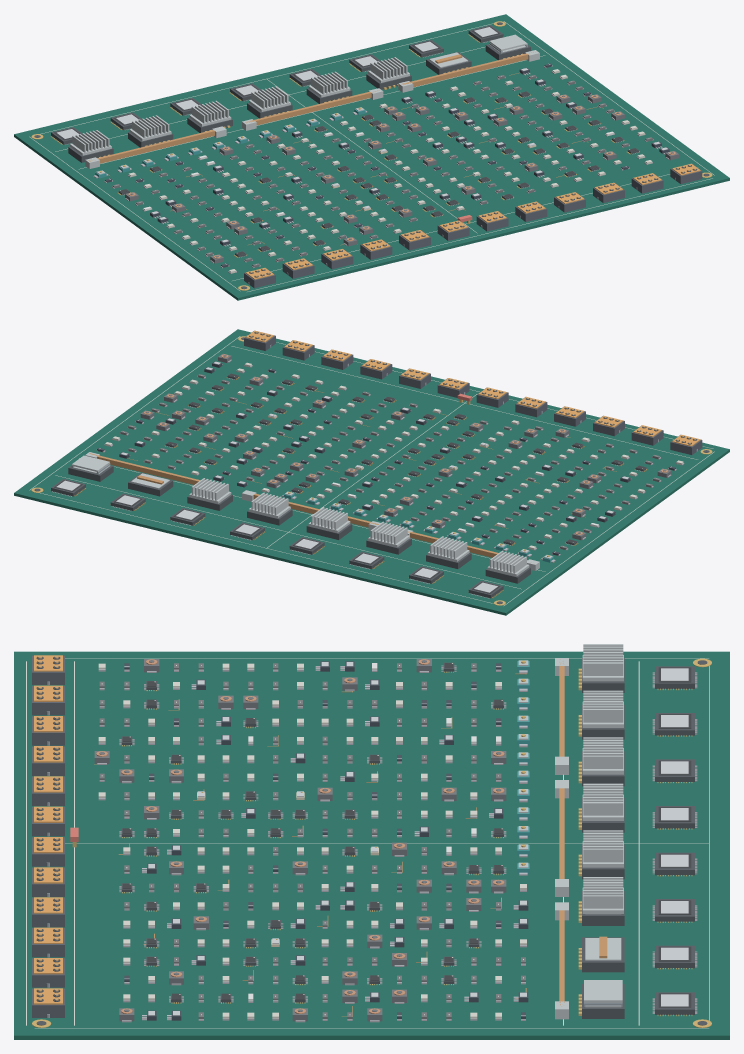
File: 435_L127_AssembledReference.glb
3 renders of one model, top to bottom at view 1: azimuth 30°, elevation 25°; view 2: azimuth 150°, elevation 25°; view 3: azimuth 270°, elevation 25°, orthographic. The views are drawn at different scales.
Parts seen in each view (by area): view 1: 435_L127_AssembledReference; view 2: 435_L127_AssembledReference; view 3: 435_L127_AssembledReference.
Boxes of the visible parts, box(x1,y1,x2,y2) form: 435_L127_AssembledReference: box(14, 14, 729, 300); 435_L127_AssembledReference: box(14, 329, 729, 615); 435_L127_AssembledReference: box(14, 644, 729, 1039).
Size of the model in its own units: 0.66 by 0.0249 by 0.52.
